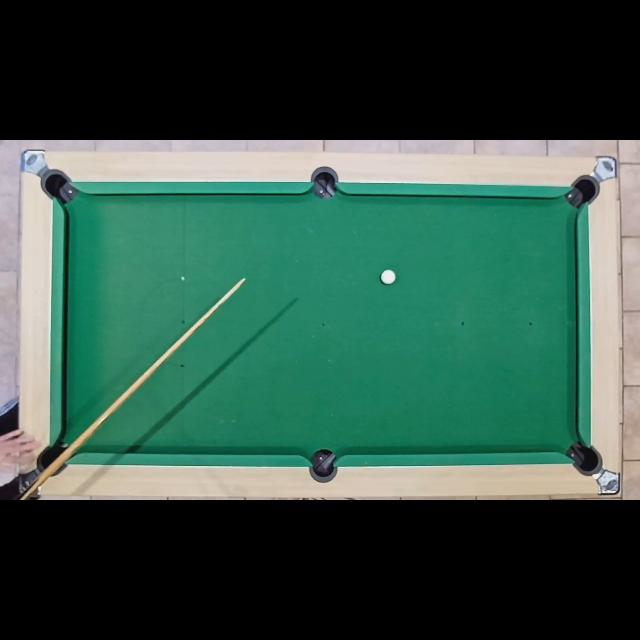Ball: (380, 270, 396, 284)
